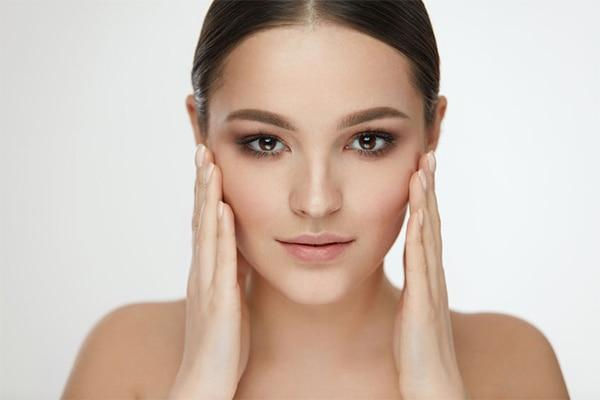Normal-Skin: (226, 65, 390, 289)
